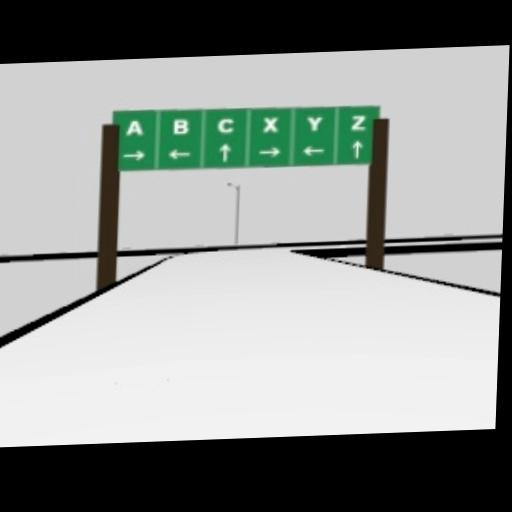A: (125, 119, 143, 135)
B: (171, 117, 189, 133)
C: (217, 117, 233, 134)
Left: (166, 147, 190, 159), (301, 144, 325, 156)
Right: (257, 146, 283, 158), (122, 149, 146, 161)
Straight: (218, 142, 230, 161), (351, 139, 363, 158)
X: (262, 116, 278, 132)
Y: (306, 114, 322, 130)
Z: (349, 114, 365, 129)
